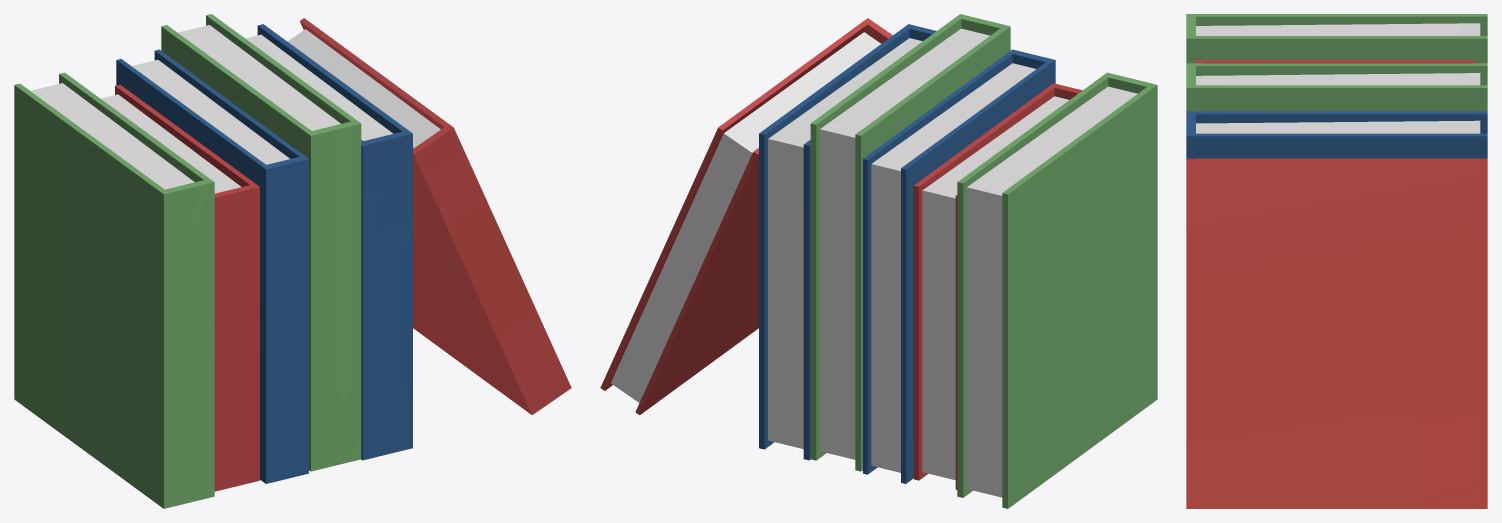
File: humanidades.glb
The picture shows the model from 3 angles, left to right: view 1: azimuth 30°, elevation 25°; view 2: azimuth 150°, elevation 25°; view 3: azimuth 270°, elevation 25°; orthographic projection.
Visible parts, largest first — view 1: Books; view 2: Books; view 3: Books.
Boxes of the visible parts, x1,y1,x2,y2 form: Books: (14, 14, 571, 508); Books: (600, 14, 1157, 508); Books: (1186, 14, 1487, 508).
Size of the model in its own units: 0.1972 by 0.1558 by 0.1253.
1 material, 1 textured.
